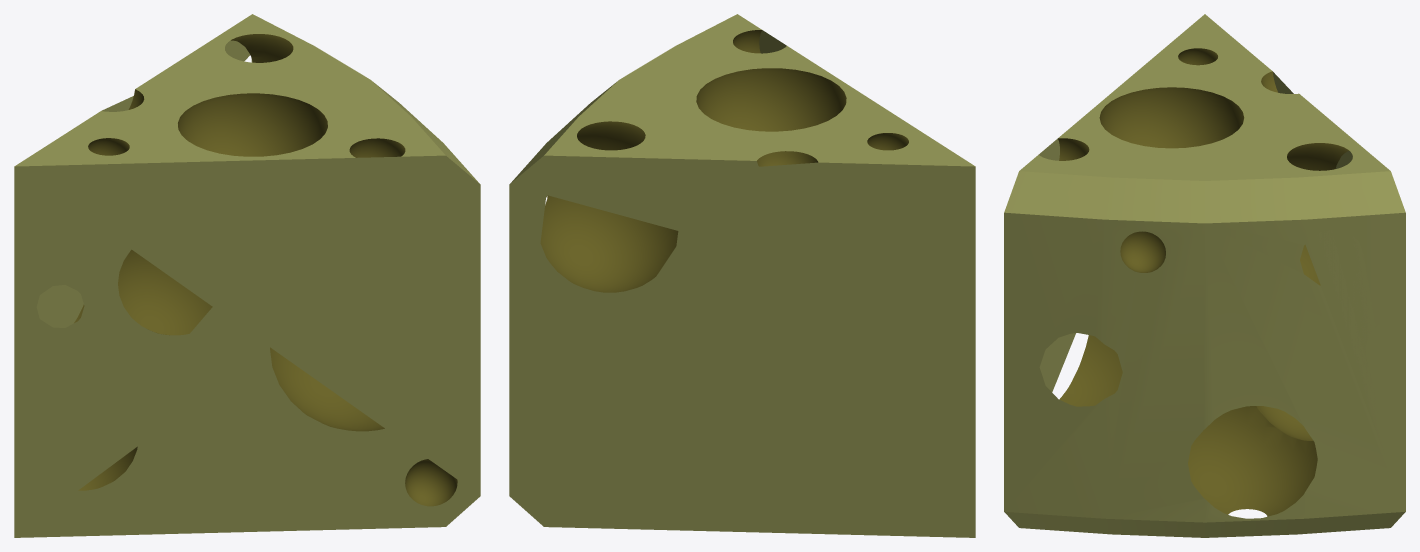
File: cheesev2.fbx
3 renders of one model, left to right at view 1: azimuth 30°, elevation 25°; view 2: azimuth 150°, elevation 25°; view 3: azimuth 270°, elevation 25°, orthographic. The views are drawn at different scales.
Visible parts, largest first — view 1: Cube; view 2: Cube; view 3: Cube.
Part boxes in pixels (left/top/right/bottom): Cube: left=14, top=14, right=480, bottom=537; Cube: left=509, top=14, right=975, bottom=537; Cube: left=1004, top=14, right=1405, bottom=537.
Bounding box in the file's own units: 213 × 196 × 200.
